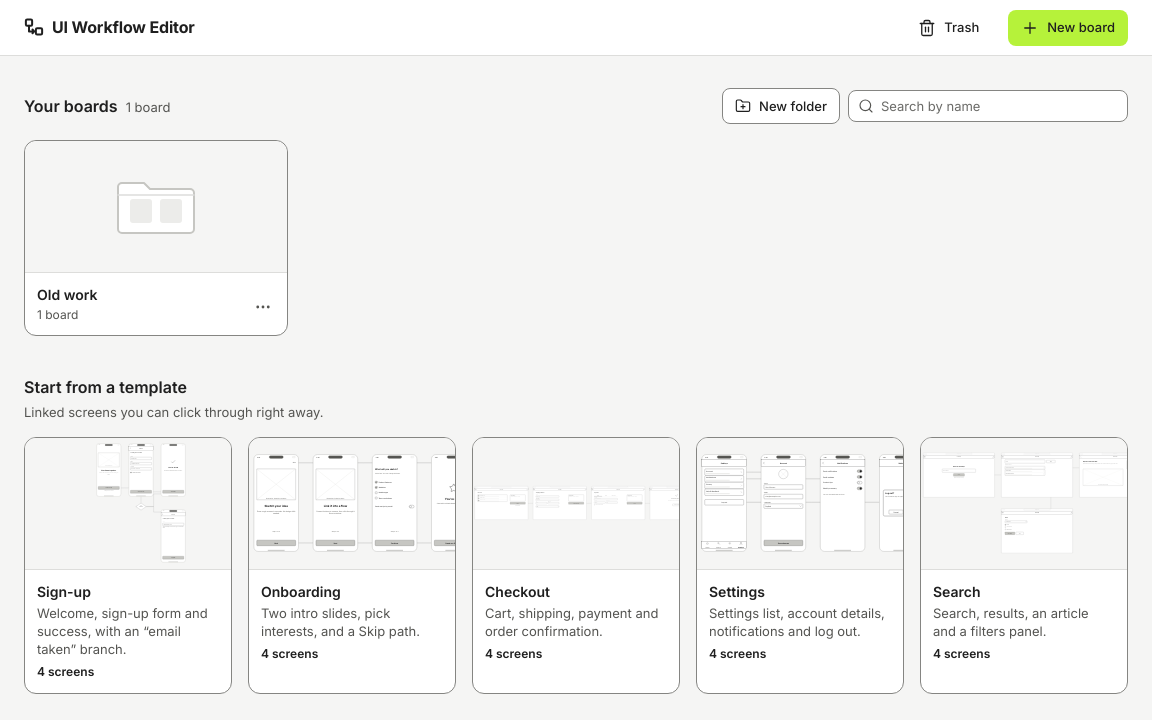
it: Folders and Trash › deleting a folder asks first, then moves it and its boards to Trash
The width and height of the screenshot is (1152, 720).
Press the mouse on the button named "Options for folder Old work" at (263,307), box top-left (247, 291), bottom-right (279, 323)
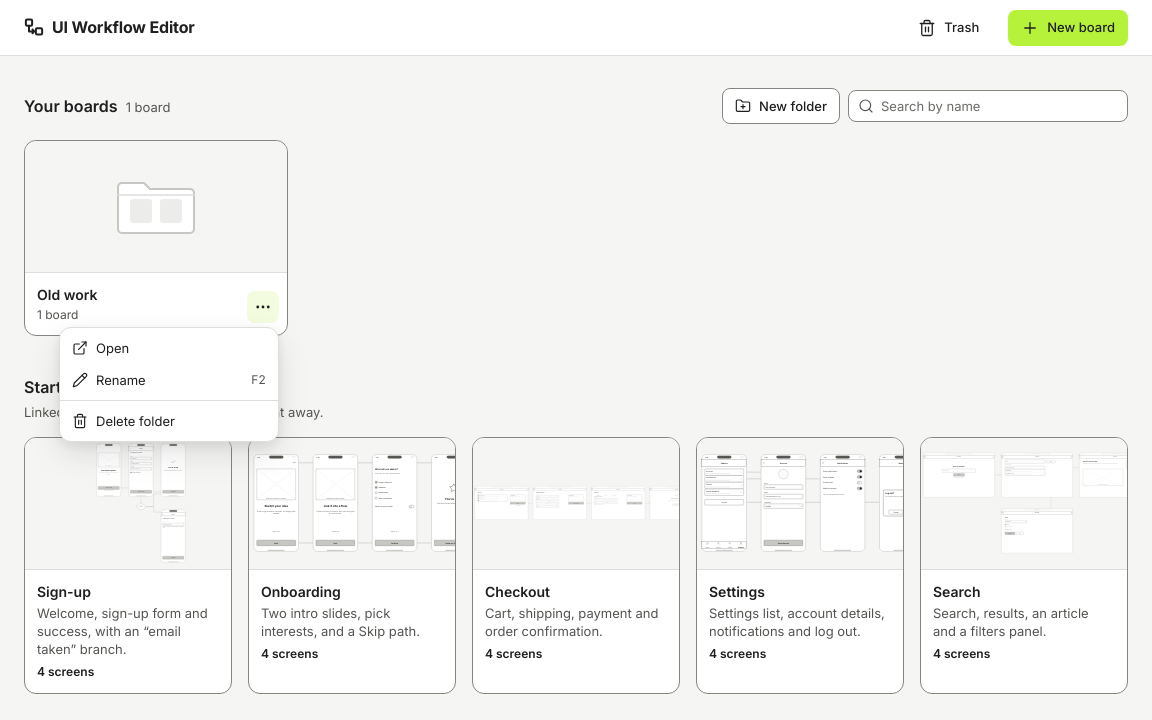
Click the menu item "Delete folder". click: (123,421)
box: top-left (72, 413), bottom-right (175, 429)
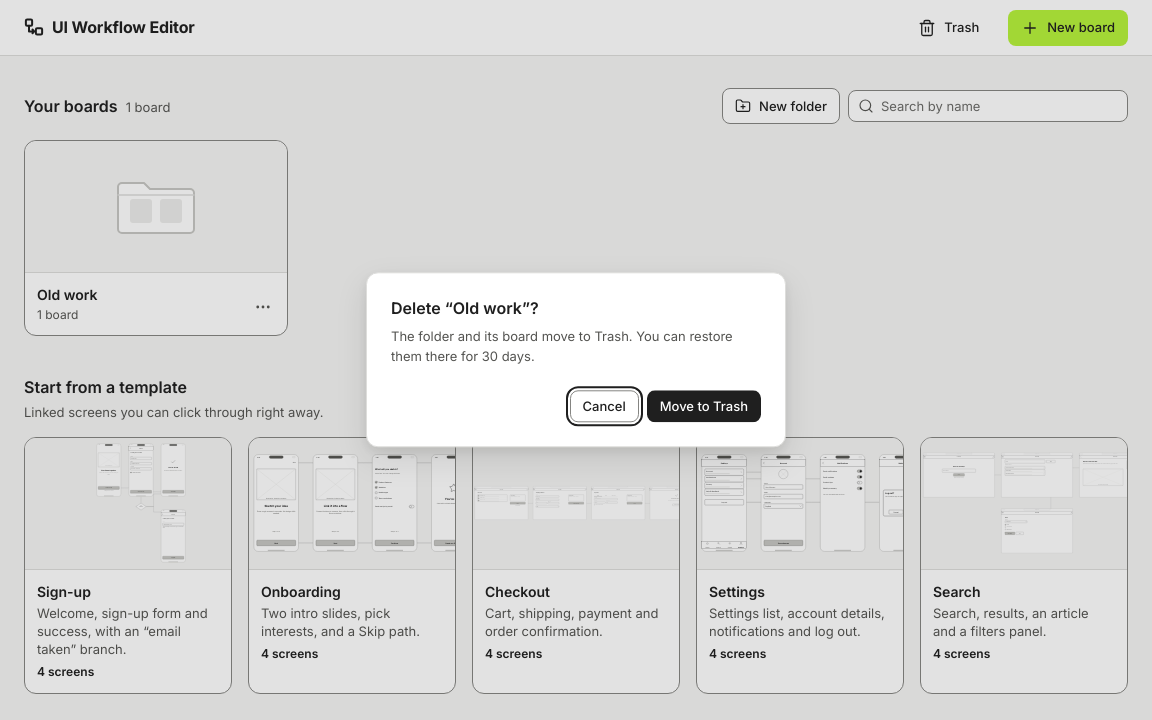
Now the text "its board move to Trash" is shown, box top-left (391, 329), bottom-right (733, 364)
Click the button "Move to Trash". click: (704,407)
box: top-left (647, 391), bottom-right (761, 423)
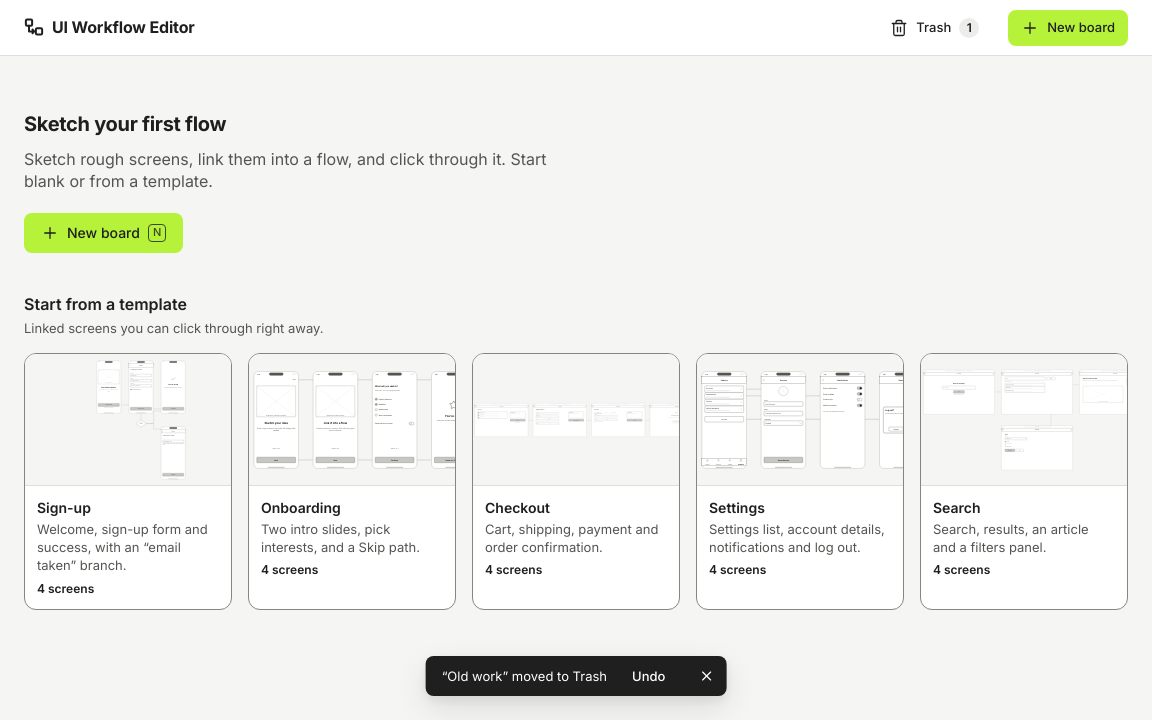
Now the list item with test id "folder-card" is gone
